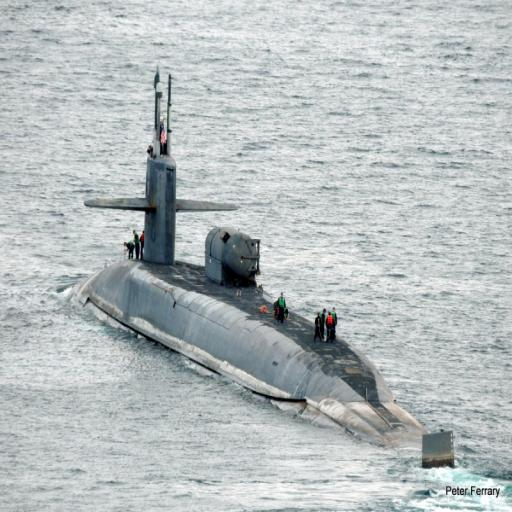submarine: (49, 62, 459, 468)
